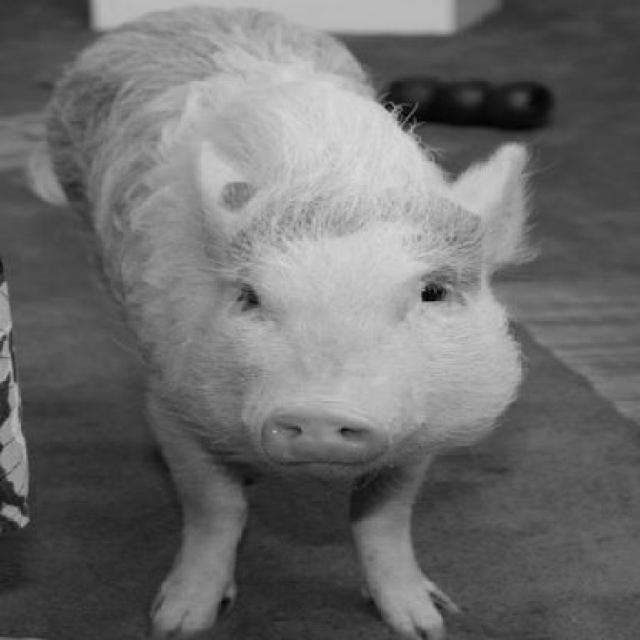Boar: (38, 3, 551, 640)
